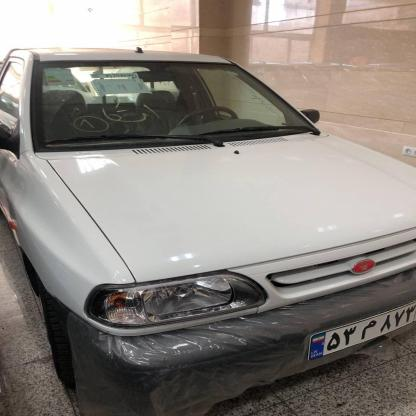Car: (0, 41, 416, 409)
